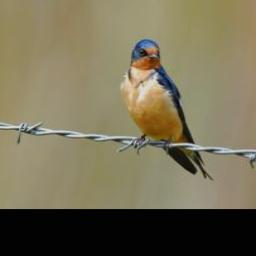Swallow: (119, 37, 214, 181)
